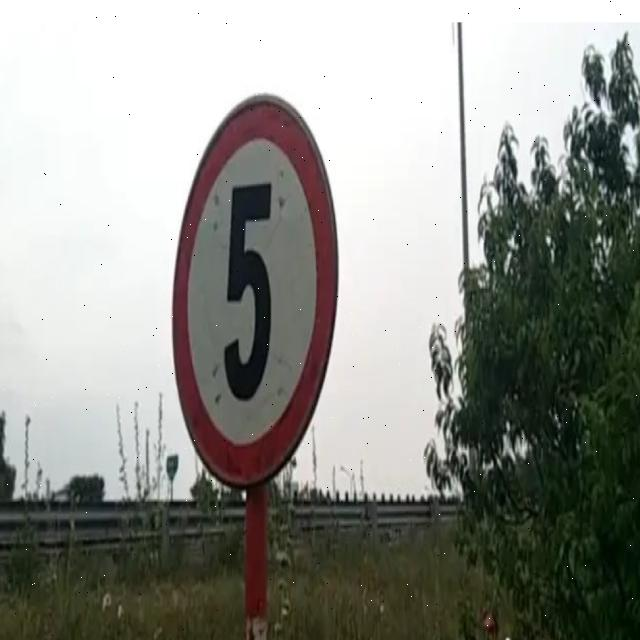speed limit 10: (173, 97, 340, 487)
